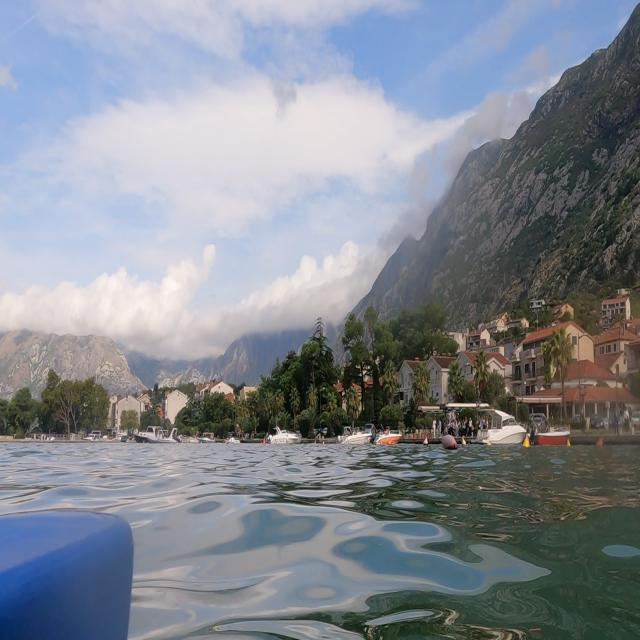boat: (476, 403, 526, 447), (130, 417, 187, 450), (529, 406, 571, 444)
buoy: (438, 431, 461, 452)
